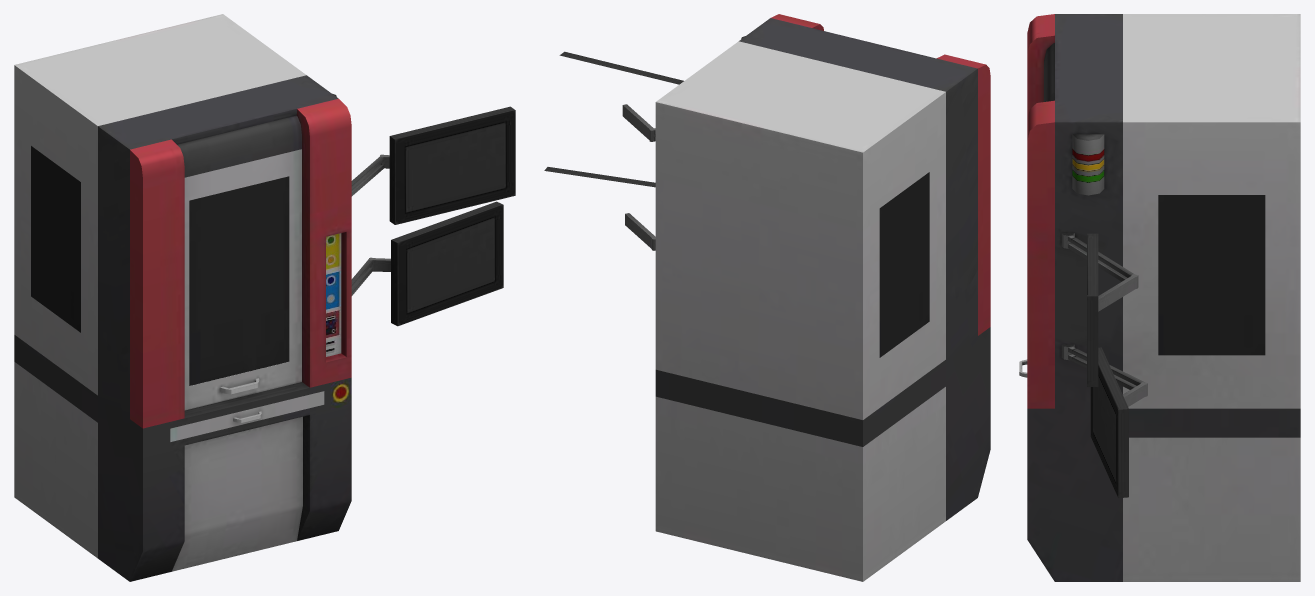
The picture shows the model from 3 angles, left to right: view 1: azimuth 30°, elevation 25°; view 2: azimuth 150°, elevation 25°; view 3: azimuth 270°, elevation 25°; orthographic projection. The views are drawn at different scales.
Parts seen in each view (by area): view 1: Ji_Guan_Diao_Ke_0; view 2: Ji_Guan_Diao_Ke_0; view 3: Ji_Guan_Diao_Ke_0.
Boxes of the visible parts, <box> form: Ji_Guan_Diao_Ke_0: <box>14,14,515,581</box>; Ji_Guan_Diao_Ke_0: <box>544,14,990,581</box>; Ji_Guan_Diao_Ke_0: <box>1019,14,1300,581</box>.
Bounding box in the file's own units: 1.22 × 1.25 × 0.6918.
1 material, 1 textured.
